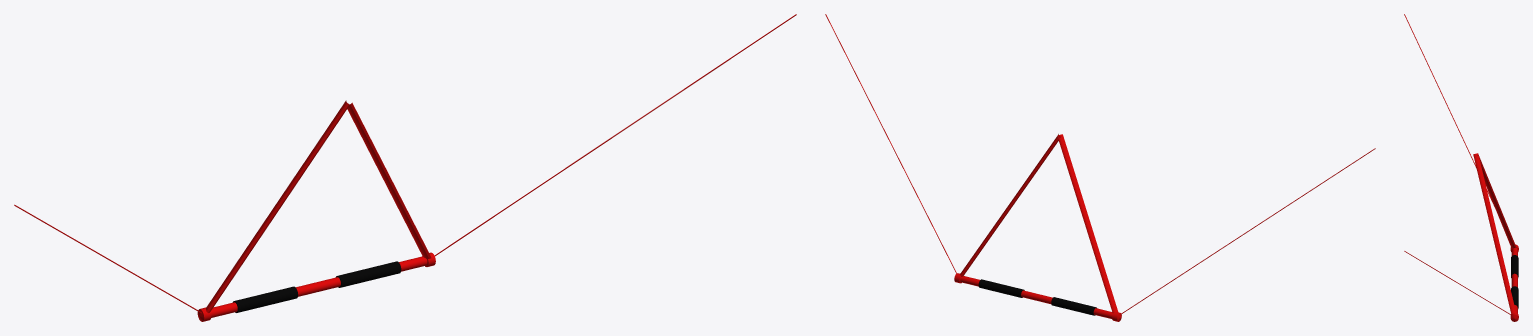
The model's file is glider_bar.glb.
3 views of the same model, side by side, from view 1: azimuth 30°, elevation 25°; view 2: azimuth 150°, elevation 25°; view 3: azimuth 270°, elevation 25° (orthographic). The views are drawn at different scales.
Parts seen in each view (by area): view 1: glider_bar; view 2: glider_bar; view 3: glider_bar.
Part boxes in pixels (x1,y1,x2,y2): glider_bar: [14, 14, 796, 321]; glider_bar: [825, 14, 1375, 321]; glider_bar: [1404, 14, 1518, 321].
Size of the model in its own units: 4.32 by 1.31 by 0.8847.
